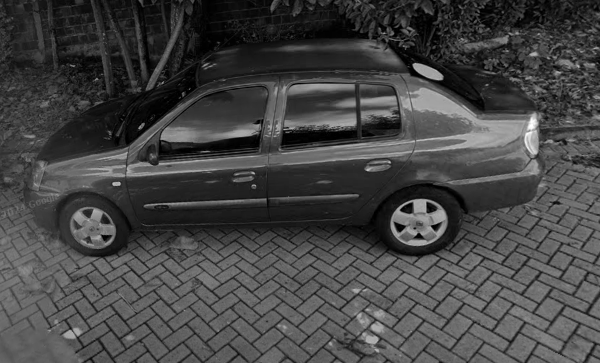car: (25, 36, 544, 258)
